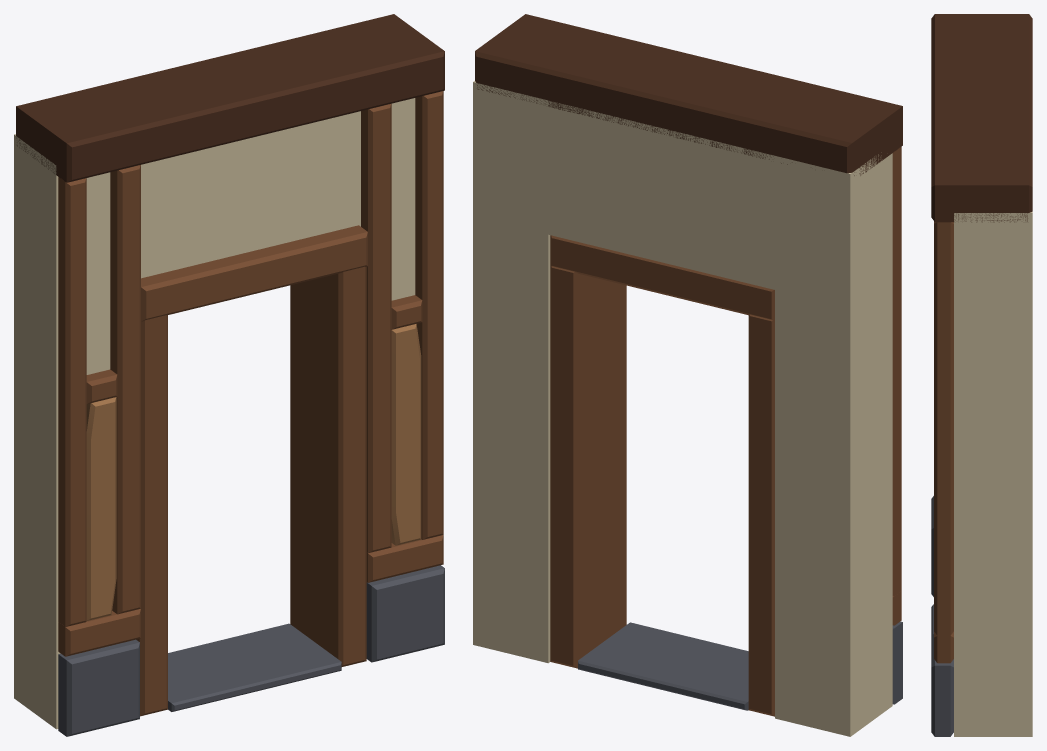
File: WallDoor_08.glb
The picture shows the model from 3 angles, left to right: view 1: azimuth 30°, elevation 25°; view 2: azimuth 150°, elevation 25°; view 3: azimuth 270°, elevation 25°; orthographic projection. The views are drawn at different scales.
Parts seen in each view (by area): view 1: WallDoor_08; view 2: WallDoor_08; view 3: WallDoor_08.
Part boxes in pixels (bbox=[...]): WallDoor_08: bbox=[14, 14, 444, 736]; WallDoor_08: bbox=[473, 14, 902, 736]; WallDoor_08: bbox=[931, 14, 1032, 736].
Size of the model in its own units: 8 by 12 by 2.
